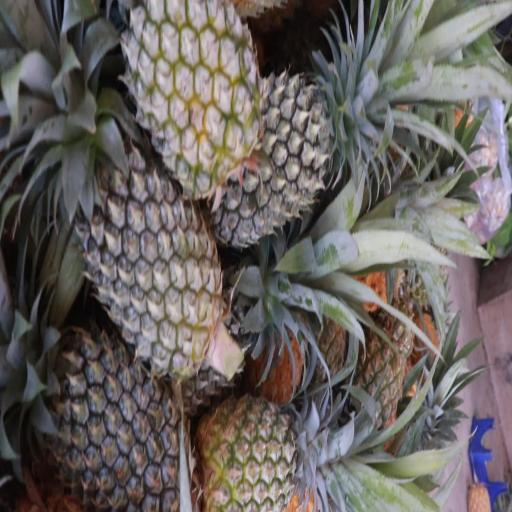------------------------------: (134, 0, 262, 188), (200, 391, 329, 512)
